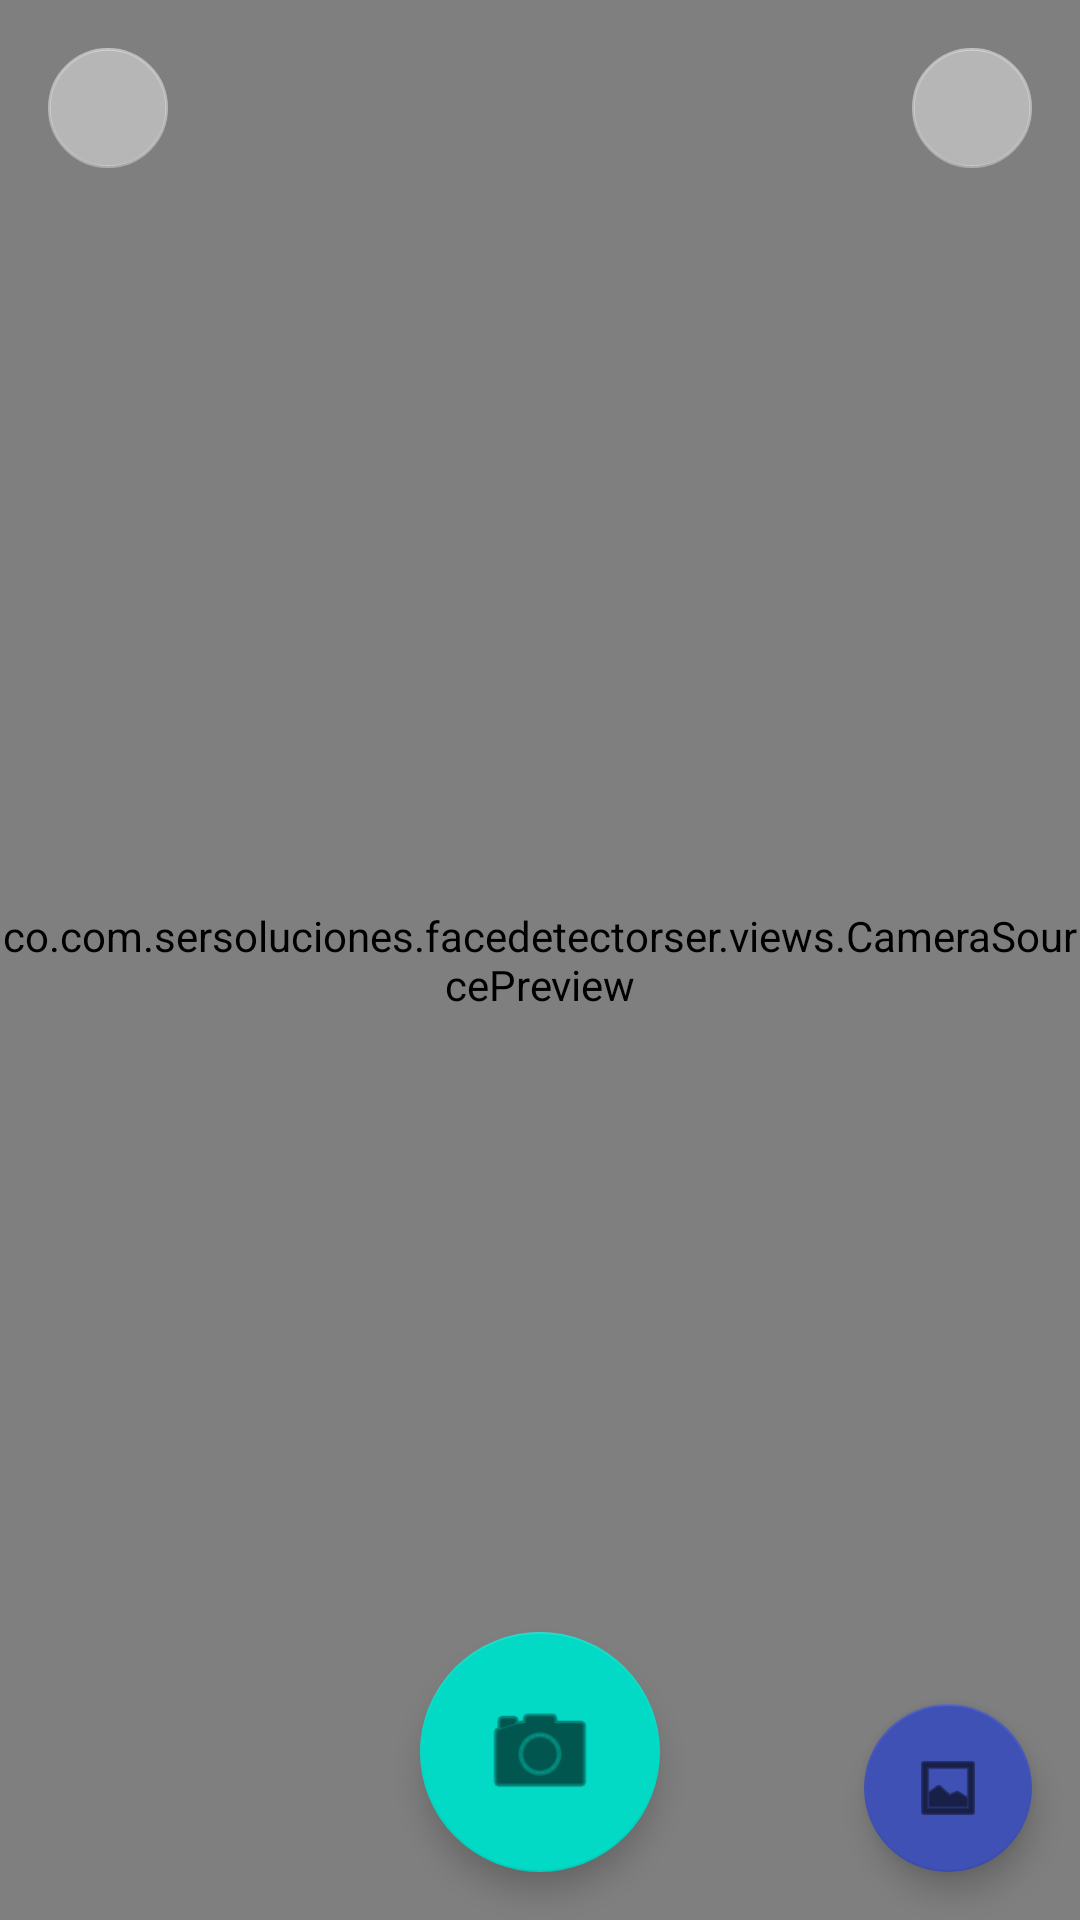

Named icons in this screenshot (1080*1920) and their bounding boxes, (x1, y1, x2, y2):
gallery: (864, 1704, 1032, 1872)
